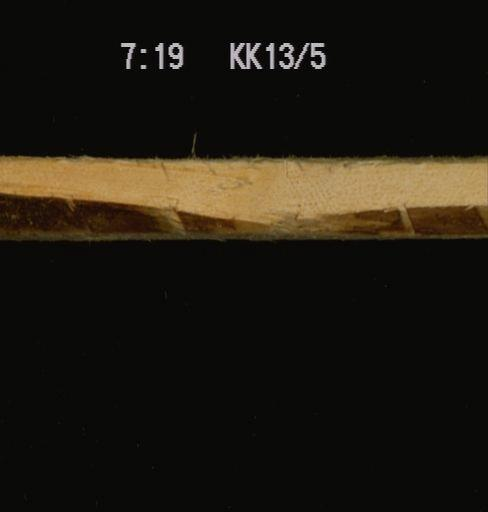wave: (0, 195, 487, 243)
